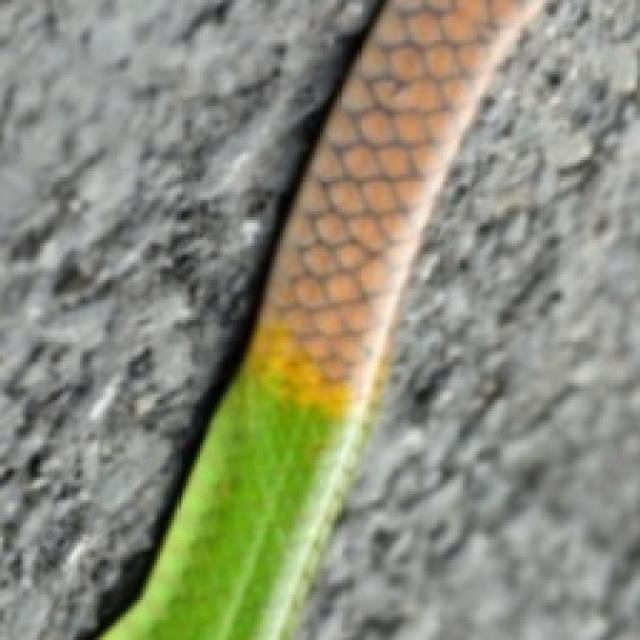red-tailed green ratsnake: (106, 0, 542, 639)
